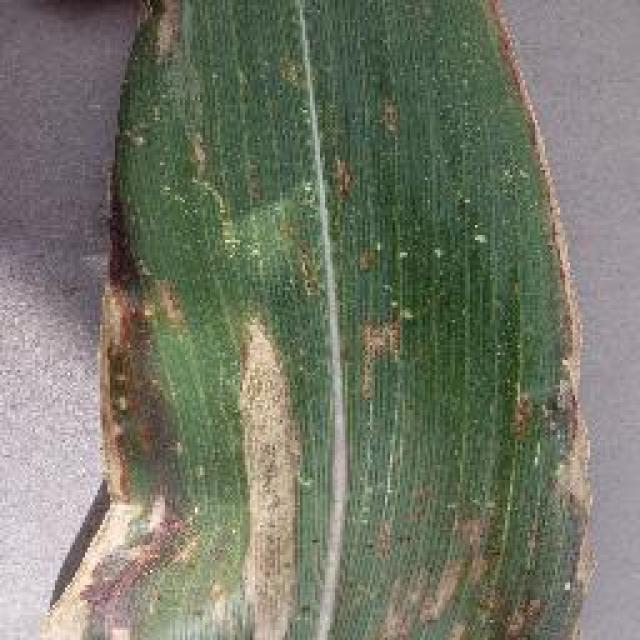Corn___Northern_Leaf_Blight: (13, 0, 615, 640)
